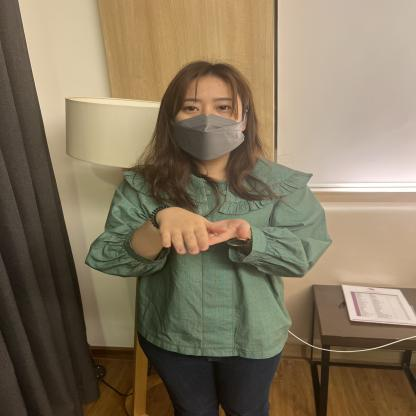Love: (126, 191, 335, 306)
